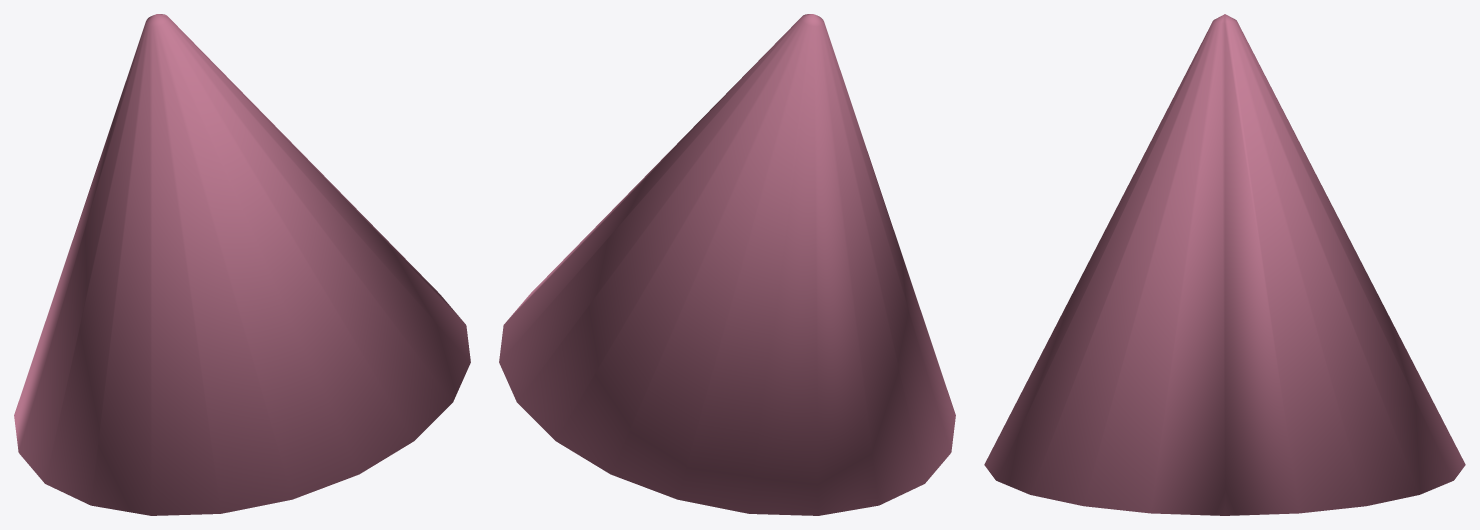
The model's file is Mouton_habillé_anniversaire.fbx.
3 views of the same model, side by side, from view 1: azimuth 30°, elevation 25°; view 2: azimuth 150°, elevation 25°; view 3: azimuth 270°, elevation 25° (orthographic). The views are drawn at different scales.
Visible parts, largest first — view 1: Birthday_hat; view 2: Birthday_hat; view 3: Birthday_hat.
Boxes of the visible parts, x1,y1,x2,y2 form: Birthday_hat: (14, 14, 470, 515); Birthday_hat: (499, 14, 955, 515); Birthday_hat: (984, 14, 1465, 515).
Bounding box in the file's own units: 22.53 × 24.12 × 23.1.
